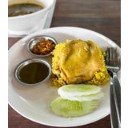briyani: (55, 43, 104, 85)
